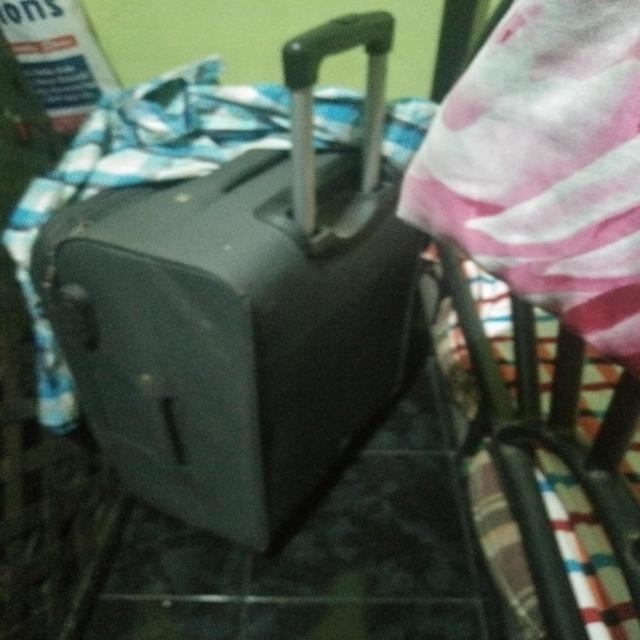luggage: (31, 134, 424, 564)
